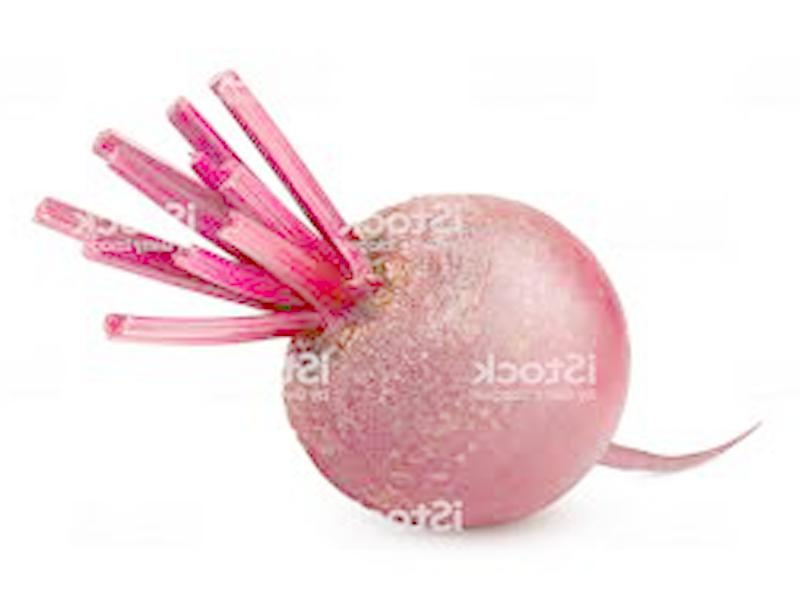Beet: (34, 72, 761, 525)
